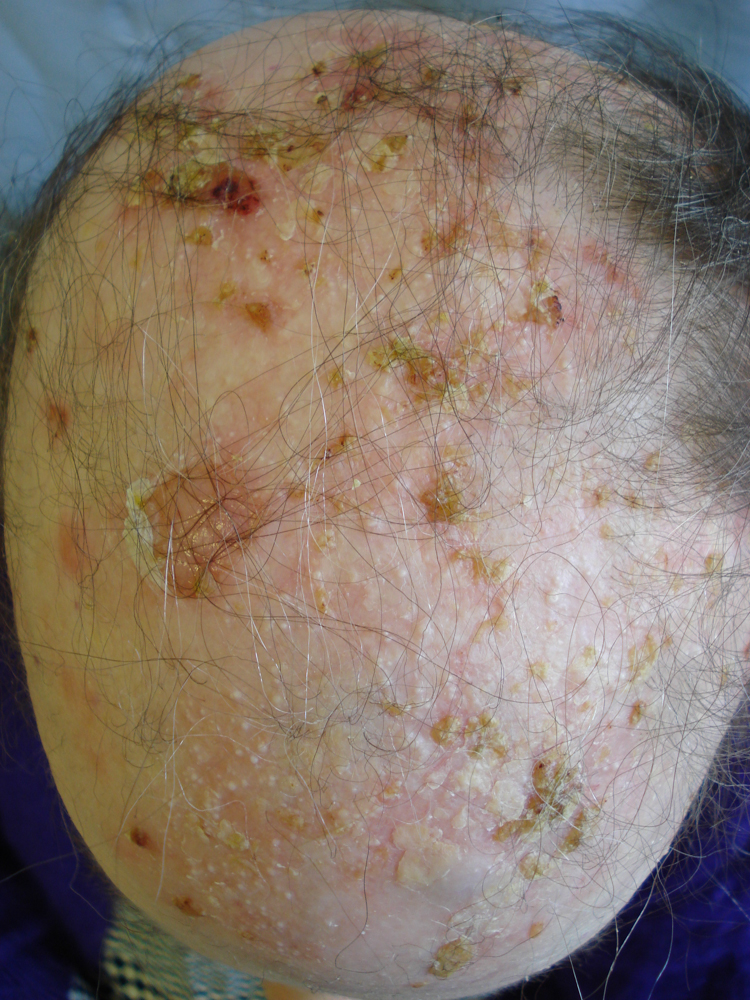Actinic Keratosis: (51, 63, 687, 977)
